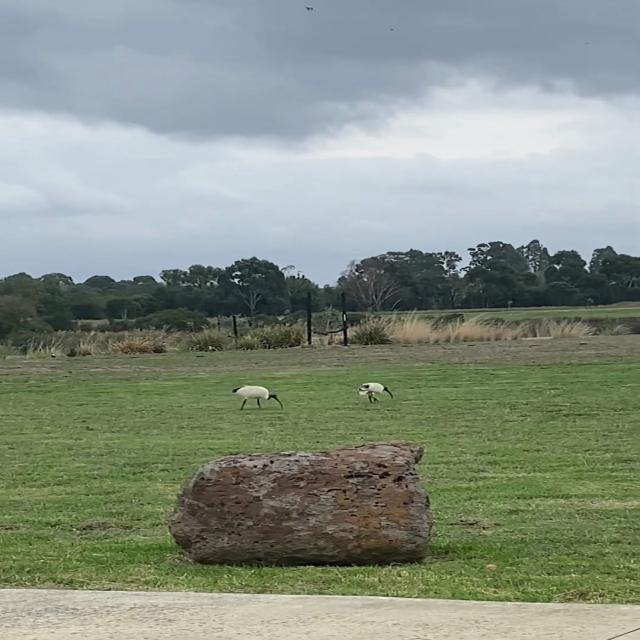Birds-Ibis: (228, 382, 289, 414), (353, 379, 397, 406)
